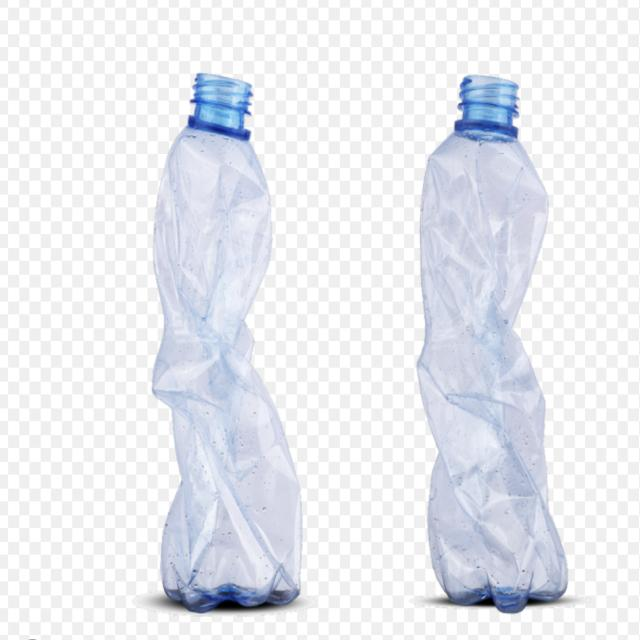recyclable: (112, 40, 347, 630), (392, 34, 610, 622)
